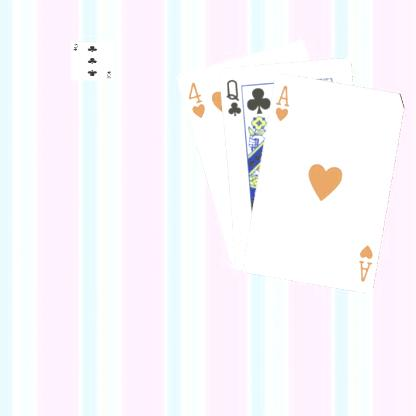4H: (185, 79, 206, 119)
AH: (355, 242, 375, 283), (272, 82, 291, 122)
QC: (223, 76, 243, 118)
